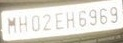character: (54, 11, 63, 30), (65, 11, 75, 28), (18, 15, 27, 32), (108, 6, 117, 23), (42, 13, 50, 31), (78, 9, 86, 27), (88, 8, 96, 26), (99, 7, 107, 25), (31, 14, 39, 31)
